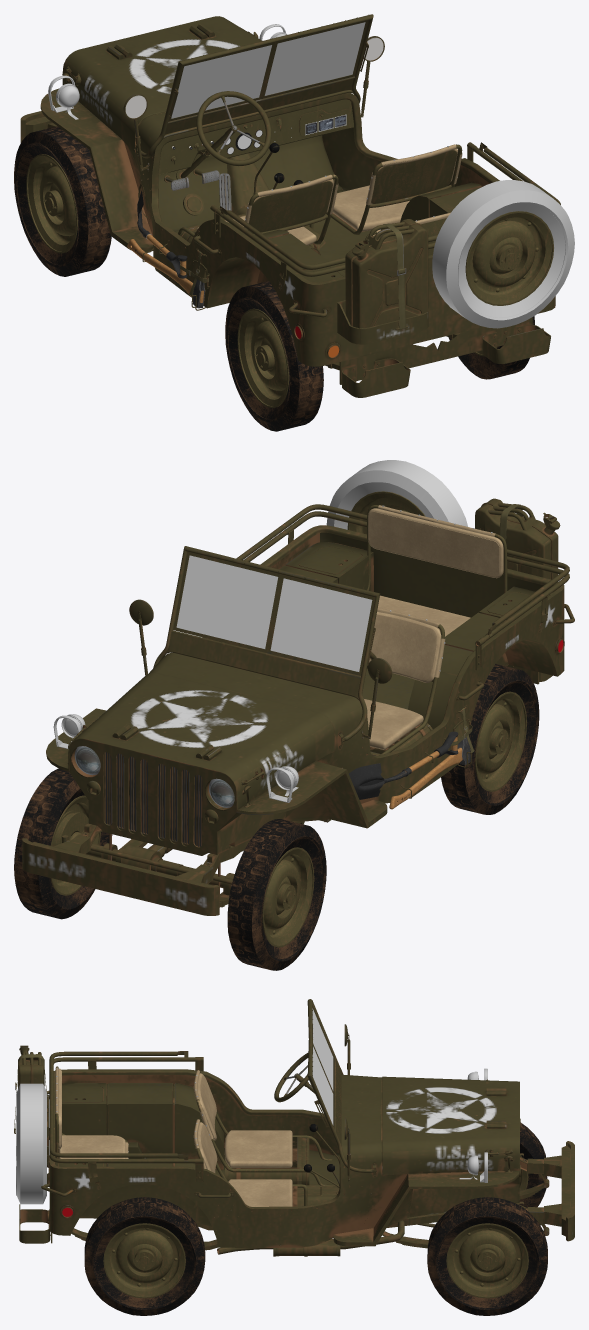
File: Jeep.fbx
3 views of the same model, one above another, from view 1: azimuth 30°, elevation 25°; view 2: azimuth 150°, elevation 25°; view 3: azimuth 270°, elevation 25° (orthographic). The views are drawn at different scales.
Visible parts, largest first — view 1: Body, SpareTyre, Front_LH, Seats, Rear_LH, FrontGlass, Panel, Tools, Rear_RH, Side Headlights; view 2: Body, Seats, FrontGlass, Front_LH, Rear_LH, Front_RH, SpareTyre, Tools, Side Headlights, HeadLights; view 3: Body, Rear_RH, Front_RH, Seats, SpareTyre, FrontGlass, Front_LH, Side Headlights.
Part boxes in pixels (box(x1,y1,x2,y2)): Body: box(20, 14, 560, 397); SpareTyre: box(432, 180, 574, 328); Front_LH: box(14, 126, 111, 276); Seats: box(178, 144, 462, 255); Rear_LH: box(225, 281, 323, 431); FrontGlass: box(171, 22, 365, 118); Panel: box(158, 99, 353, 174); Tools: box(127, 190, 205, 308); Rear_RH: box(448, 316, 534, 379); Side Headlights: box(48, 24, 287, 119); Body: box(22, 498, 574, 915); Seats: box(221, 505, 507, 754); FrontGlass: box(176, 555, 372, 671); Front_LH: box(227, 819, 326, 970); Rear_LH: box(441, 664, 539, 814); Front_RH: box(14, 768, 112, 919); SpareTyre: box(326, 460, 467, 534); Tools: box(349, 731, 470, 809); Side Headlights: box(53, 714, 298, 802); HeadLights: box(74, 746, 234, 807); Body: box(14, 999, 574, 1256); Rear_RH: box(84, 1197, 205, 1315); Front_RH: box(427, 1197, 547, 1315); Seats: box(55, 1066, 332, 1206); SpareTyre: box(16, 1083, 46, 1204); FrontGlass: box(312, 1008, 333, 1125); Front_LH: box(518, 1122, 547, 1207); Side Headlights: box(459, 1068, 487, 1182).
Size of the model in its own units: 4.48 by 4.42 by 9.72.
